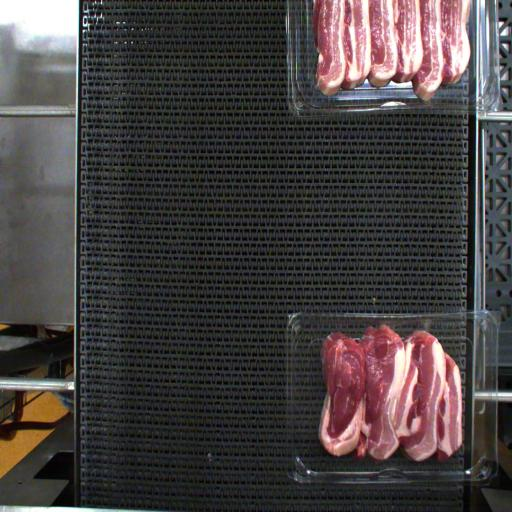packaging-error: (420, 320, 431, 336)
